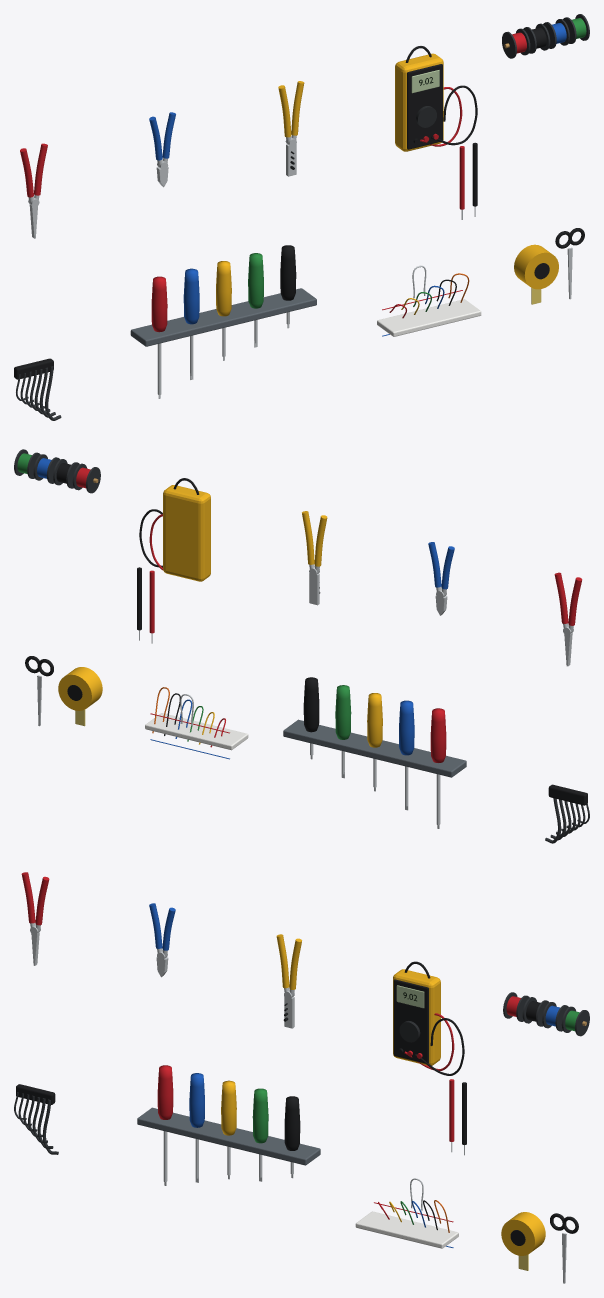
The model's file is toolwall.glb.
3 views of the same model, one above another, from view 1: azimuth 30°, elevation 25°; view 2: azimuth 150°, elevation 25°; view 3: azimuth 330°, elevation 25° (orthographic).
Visible parts, largest first — view 1: sd_rack, dmm_body, bb_board, dmm_case, tape_case, sd_handle0, sd_handle4, sd_handle1, sd_handle2, sd_handle3; view 2: dmm_case, sd_rack, bb_board, tape_case, sd_handle4, sd_handle0, sd_handle1, sd_handle3, sd_handle2, hex_holder; view 3: sd_rack, dmm_body, bb_board, dmm_case, tape_case, sd_handle0, sd_handle4, sd_handle3, sd_handle2, sd_handle1.
Boxes of the visible parts, bbox=[...] form: sd_rack: bbox=[130, 288, 316, 346]; dmm_body: bbox=[407, 64, 442, 149]; bb_board: bbox=[377, 299, 481, 336]; dmm_case: bbox=[395, 53, 443, 151]; tape_case: bbox=[514, 244, 558, 289]; sd_handle0: bbox=[151, 276, 167, 332]; sd_handle4: bbox=[280, 245, 296, 300]; sd_handle1: bbox=[183, 268, 199, 324]; sd_handle2: bbox=[216, 261, 231, 316]; sd_handle3: bbox=[248, 253, 263, 308]; dmm_case: bbox=[163, 485, 210, 581]; sd_rack: bbox=[283, 719, 466, 777]; bb_board: bbox=[145, 713, 248, 750]; tape_case: bbox=[58, 667, 102, 710]; sd_handle4: bbox=[303, 677, 319, 732]; sd_handle0: bbox=[430, 708, 446, 762]; sd_handle1: bbox=[399, 700, 414, 755]; sd_handle3: bbox=[335, 685, 351, 739]; sd_handle2: bbox=[367, 693, 382, 747]; hex_holder: bbox=[548, 784, 587, 805]; sd_rack: bbox=[137, 1107, 320, 1165]; dmm_body: bbox=[393, 979, 428, 1063]; bb_board: bbox=[355, 1211, 458, 1248]; dmm_case: bbox=[393, 969, 440, 1065]; tape_case: bbox=[501, 1212, 545, 1255]; sd_handle0: bbox=[157, 1065, 173, 1119]; sd_handle4: bbox=[284, 1096, 300, 1150]; sd_handle3: bbox=[252, 1088, 268, 1143]; sd_handle2: bbox=[221, 1080, 236, 1135]; sd_handle1: bbox=[189, 1073, 204, 1127].
Bounding box in the file's own units: 1.07 × 0.519 × 0.092.
